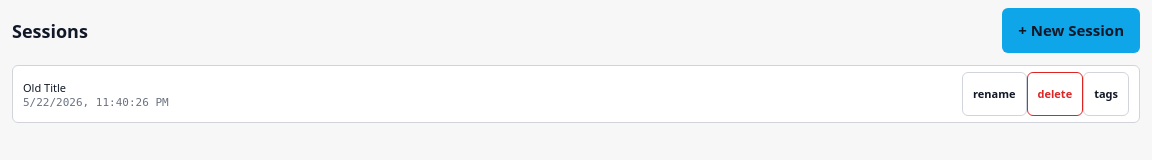
Scenario: Sessions › renames session when rename button clicked and saved
Expected: the text "Old Title" is shown, [23,80,66,94]
// Click rename
Click the button with test id "rename-session-ses_1" at (994, 94), box [962,72,1027,116]
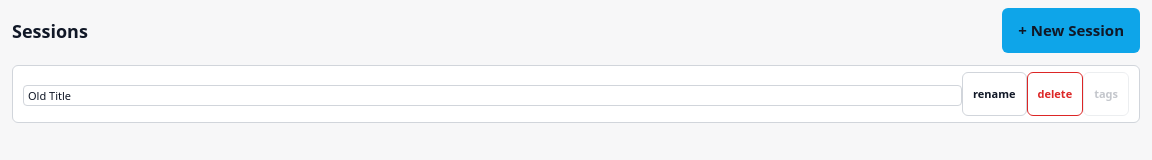
Expected: the field with test id "rename-input-ses_1" is shown
// Change value and blur to save
Replace the text in the field with test id "rename-input-ses_1" with "New Title" at (493, 95), box [23,84,962,106]
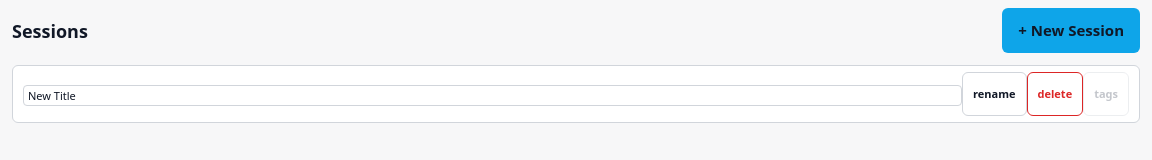
Leave the field with test id "rename-input-ses_1", box [23,84,962,106]
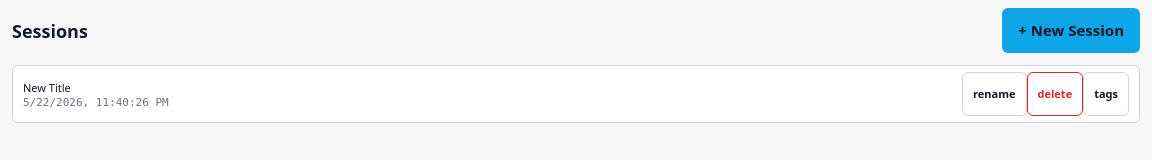
Expected: the text "New Title" is shown, [23,80,71,94]
